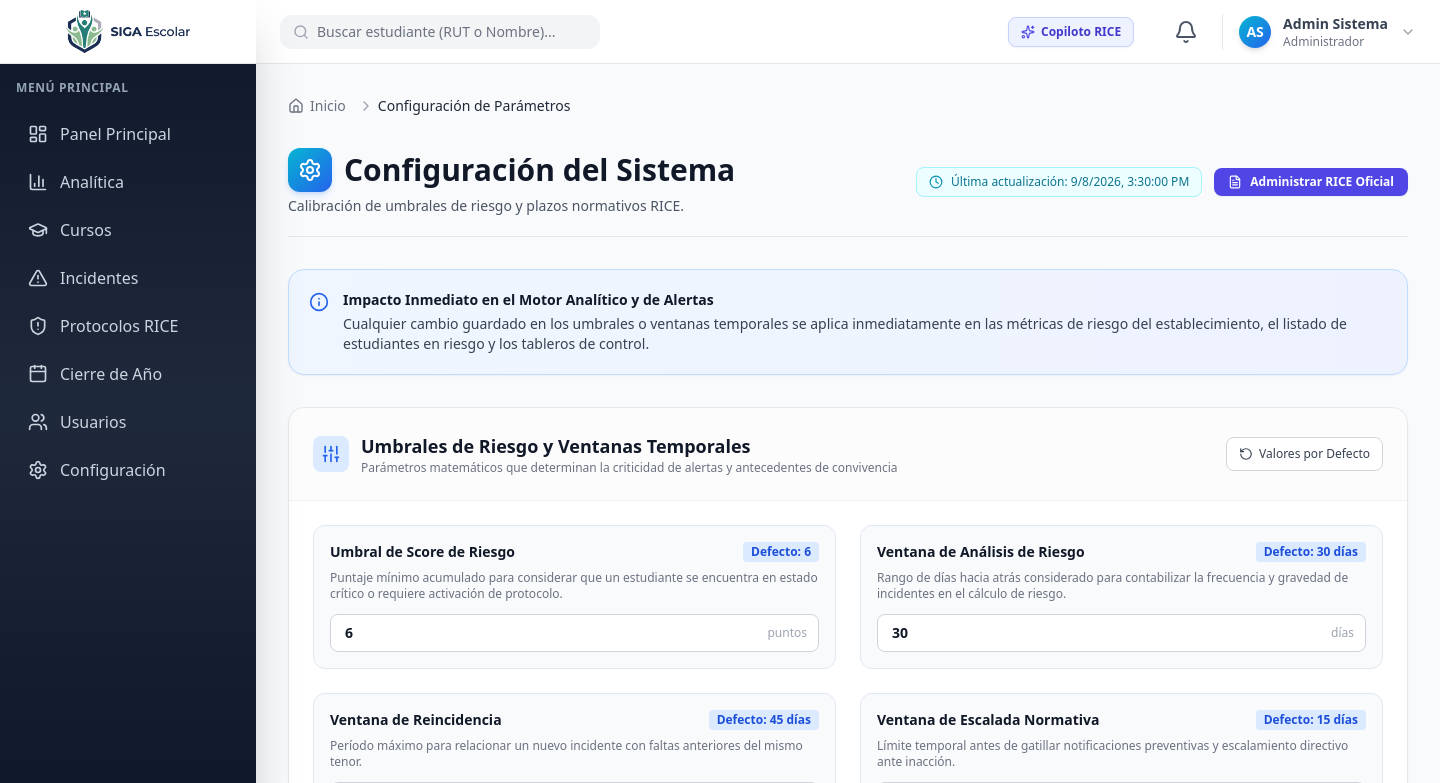
ConfiguracionPage (HU 5.3) › restablece los valores por defecto al pulsar "Valores por Defecto"
Replace the text in the number field labelled "Umbral de Score de Riesgo" with "12" at (574, 633), box 330,614 -> 819,652
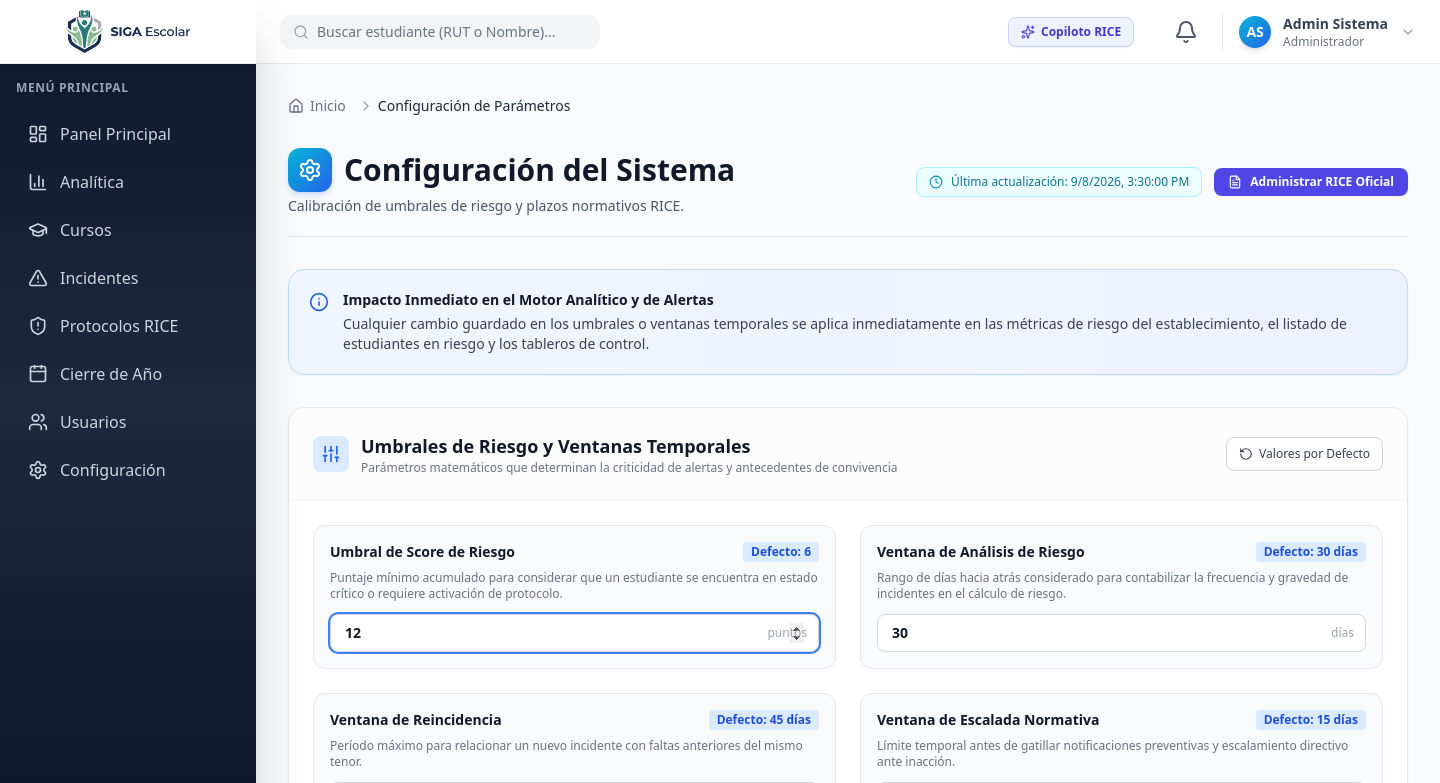
Click the button "Valores por Defecto" at (1305, 454), box 1226,437 -> 1383,471
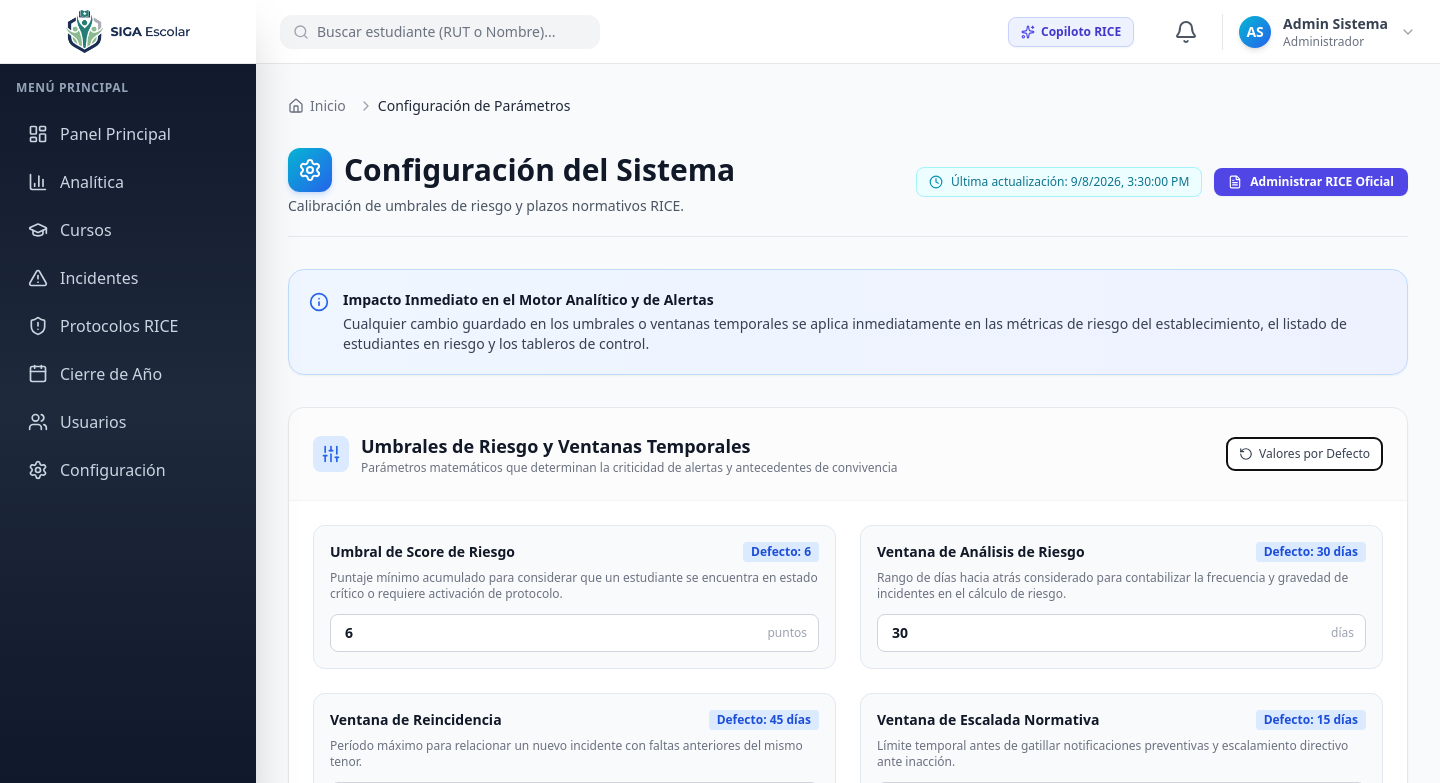
Now the number field labelled "Umbral de Score de Riesgo" holds "6", box 330,614 -> 819,652
